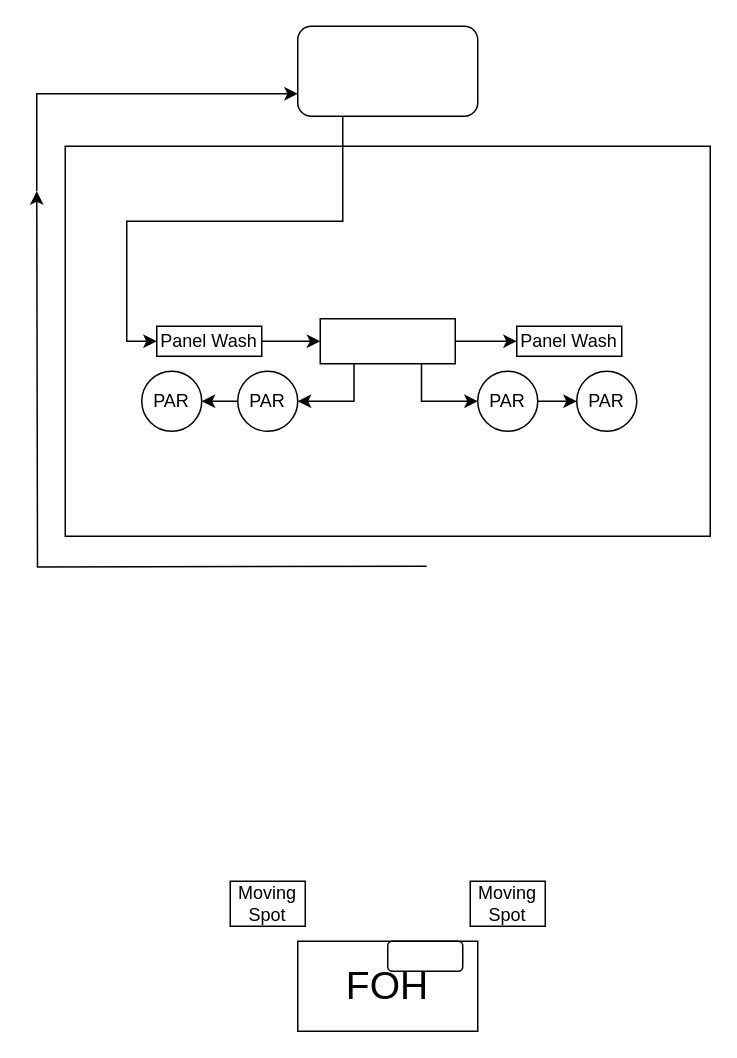
Image size: 737x1058. Some labels were removed from this diagram. The shapes that lost their labels are listed below. From the top down, each one's box as (x1, y1, x2, y2) in pixels, then its label:
(296, 25, 478, 116): FOG MACHINE
(319, 317, 455, 364): 4 Pack (x2?)
(386, 940, 463, 971): Console
